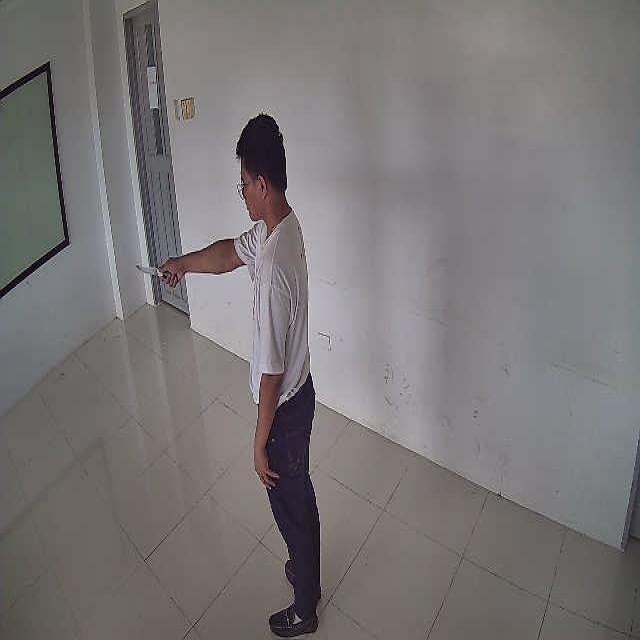knife: (135, 264, 172, 277)
